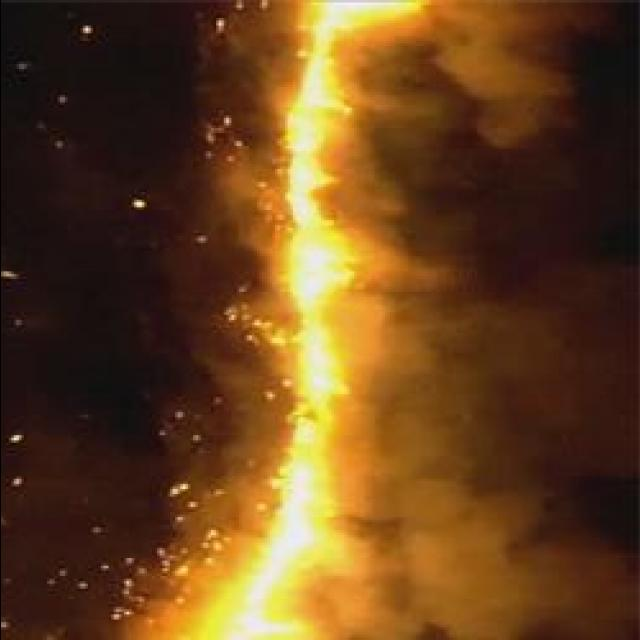fire: (285, 241, 341, 313), (286, 124, 324, 224), (320, 0, 424, 34), (277, 472, 315, 562), (298, 332, 341, 398), (232, 600, 304, 638), (299, 65, 331, 121), (253, 548, 284, 599)
smoke: (397, 468, 561, 638), (348, 154, 456, 408), (432, 0, 576, 150), (319, 504, 425, 636), (336, 410, 464, 484)
